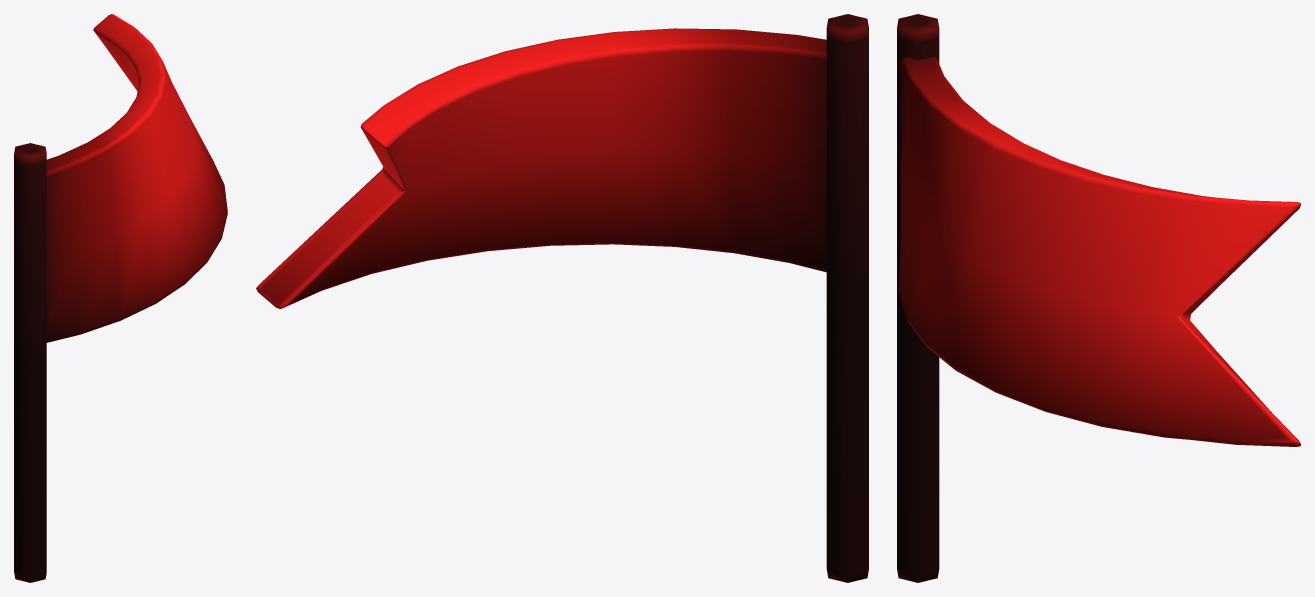
File: SM_BS_Airdrop_MajorMustache_Prop_Flag.fbx
3 views of the same model, side by side, from view 1: azimuth 30°, elevation 25°; view 2: azimuth 150°, elevation 25°; view 3: azimuth 270°, elevation 25° (orthographic). The views are drawn at different scales.
Visible parts, largest first — view 1: SM_BS_Airdrop_MajorMustache_Prop_Flag; view 2: SM_BS_Airdrop_MajorMustache_Prop_Flag; view 3: SM_BS_Airdrop_MajorMustache_Prop_Flag.
Boxes of the visible parts, <box> form: SM_BS_Airdrop_MajorMustache_Prop_Flag: <box>14,14,227,582</box>; SM_BS_Airdrop_MajorMustache_Prop_Flag: <box>256,14,868,582</box>; SM_BS_Airdrop_MajorMustache_Prop_Flag: <box>897,14,1300,582</box>.
Size of the model in its own units: 80.03 by 100 by 66.25.
